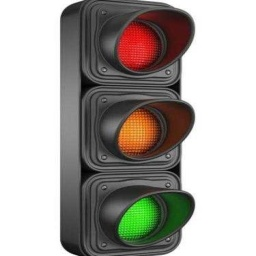traffic light: (59, 0, 195, 256)
